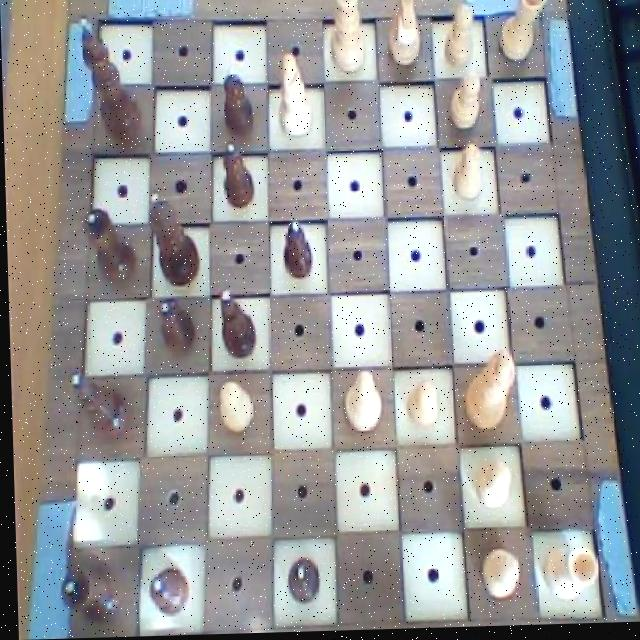bishop: (62, 365, 133, 447), (210, 283, 260, 366)
black-bishop: (74, 12, 151, 152)
black-knight: (138, 561, 192, 623), (153, 291, 197, 363), (218, 60, 256, 142), (216, 136, 256, 213), (274, 213, 317, 283), (279, 551, 322, 613)
black-pawn: (144, 188, 207, 290)
black-queen: (75, 203, 138, 293), (47, 559, 124, 629)
black-rook: (271, 45, 319, 147), (333, 365, 388, 442)
white-bishop: (453, 345, 518, 440)
white-king: (382, 0, 425, 76)
white-knight: (471, 542, 524, 609), (443, 67, 487, 141), (437, 0, 480, 74), (209, 378, 256, 443), (463, 461, 513, 518), (445, 140, 487, 206), (398, 374, 443, 434)
white-pawn: (321, 0, 369, 85)
white-queen: (535, 540, 601, 609), (494, 0, 551, 73)
